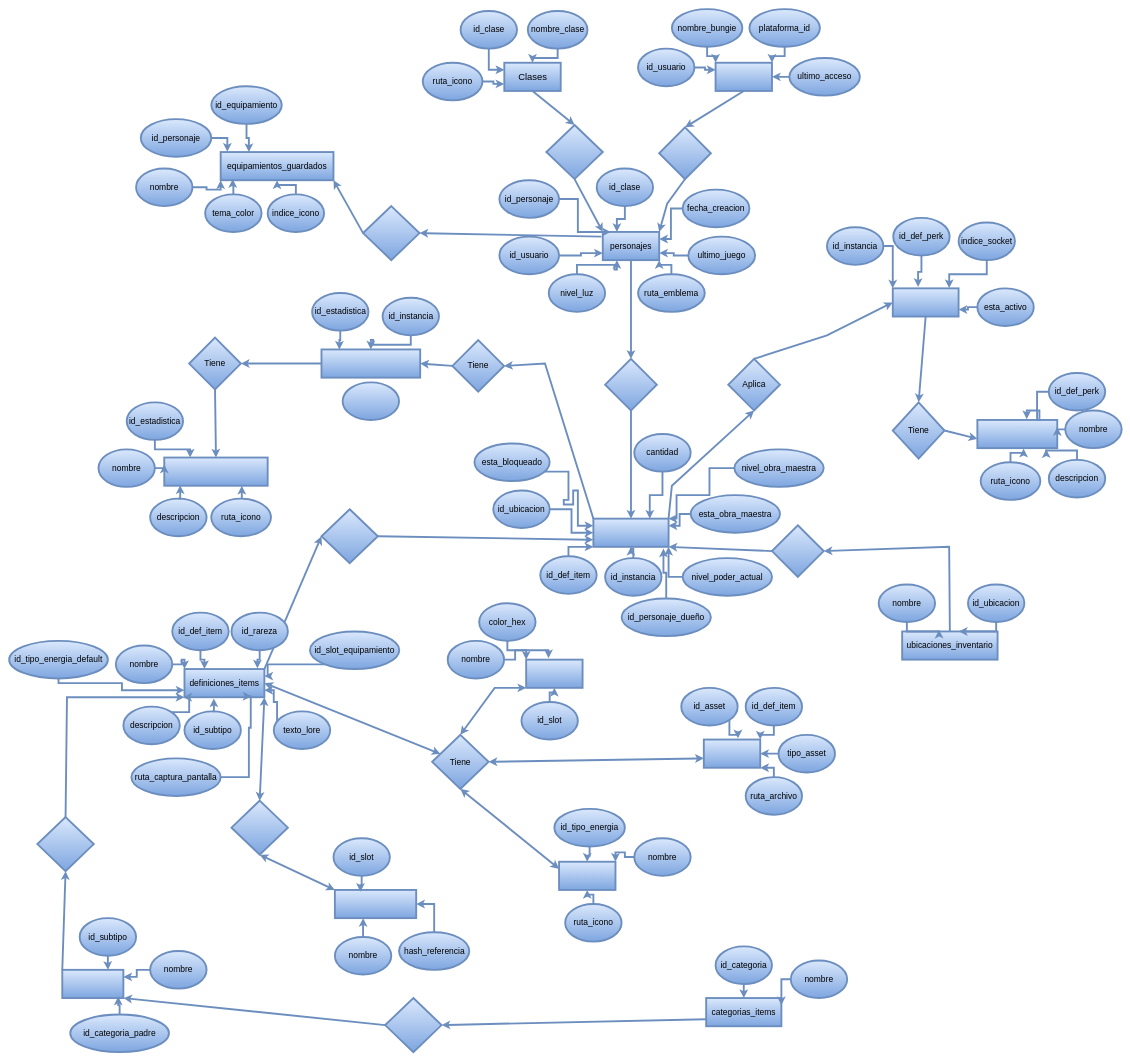
Image size: 1130x1061. Some labels were removed from this diagram. The centre of each missing label's shape, as x and y in pixels:
Agrupa: pixel 413 1025
assets_items: pixel 732 753
definiciones_estadisticas: pixel 215 471
definiciones_perks: pixel 1017 434
Equipa: pixel 631 384
Es Copia de: pixel 349 536
Es de clase: pixel 574 152
Es de Subtipo: pixel 65 844
Esta en: pixel 797 551
estadisticas_instancia: pixel 370 363
Guarda EQP: pixel 391 233
instancias_items: pixel 630 532
perks_instancia: pixel 925 302
Poseen: pixel 685 153
rarezas: pixel 554 673
slots_equipamiento: pixel 375 904
subtipos_items: pixel 92 984
tipos_energia: pixel 587 876
Usa Slot: pixel 259 827
Usuarios: pixel 743 77
valor: pixel 370 401
